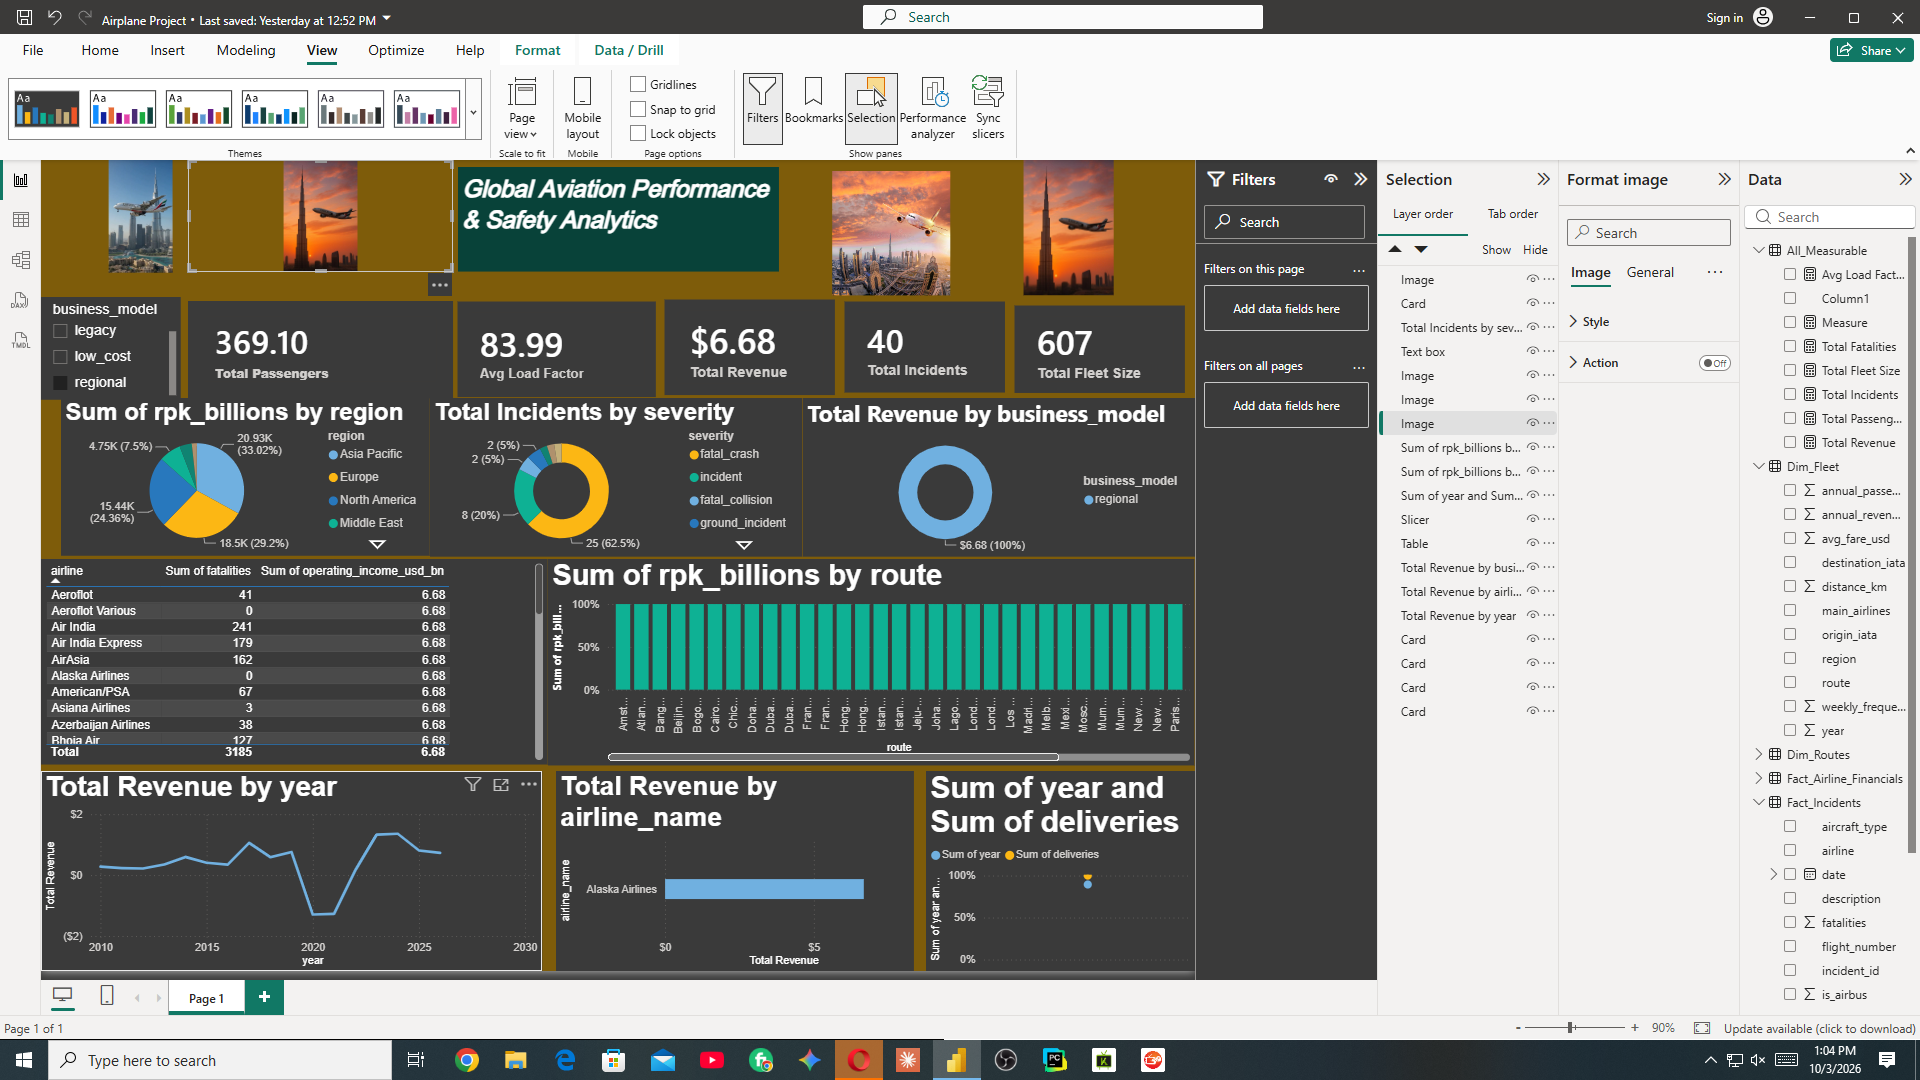

The dashboard page shown, as its layout file describes it:
{"tool":"powerbi","page":{"name":"Page 1","canvas":[1280,900],"ordinal":0},"visuals":[{"type":"cardVisual","fields":{"Data":["All_Measurable.Total Revenue"]},"box":[686.8,150,199.6,116.2],"z":0},{"type":"cardVisual","fields":{"Data":["All_Measurable.Total Incidents"]},"box":[886.4,152.2,188.3,111.6],"z":1000},{"type":"cardVisual","fields":{"Data":["All_Measurable.Total Fleet Size"]},"box":[1074.7,156.8,199.6,107.1],"z":2000},{"type":"cardVisual","fields":{"Data":["All_Measurable.Avg Load Factor"]},"box":[456.7,152.2,230.1,116.2],"z":3000},{"type":"lineChart","fields":{"Category":["Fact_Airline_Financials.year"],"Y":["All_Measurable.Total Revenue"]},"box":[0,677.8,556,222.2],"z":4000},{"type":"barChart","fields":{"Category":["Fact_Airline_Financials.airline_name"],"Y":["All_Measurable.Total Revenue"]},"box":[571.8,677.8,397,222.2],"z":5000},{"type":"donutChart","fields":{"Category":["Fact_Airline_Financials.business_model"],"Y":["All_Measurable.Total Revenue"]},"box":[845.2,264,434.8,176.4],"z":6000},{"type":"tableEx","fields":{"Values":["Fact_Incidents.airline","Sum(Fact_Incidents.fatalities)","Sum(Fact_Airline_Financials.operating_income_usd_bn)"]},"box":[0,442.6,562.4,228.5],"z":7000},{"type":"slicer","fields":{"Values":["Fact_Airline_Financials.business_model"]},"box":[0,152,155.3,114.2],"z":8000},{"type":"hundredPercentStackedAreaChart","fields":{"Y":["Sum(Fact_Traffic.year)","Sum(Fact_Traffic.deliveries)"]},"box":[981.1,677.8,298.9,222.2],"z":9000},{"type":"pieChart","fields":{"Category":["Dim_Routes.region"],"Y":["Sum(Dim_Routes.rpk_billions)"]},"box":[22.2,264,409.3,175.3],"z":10000},{"type":"hundredPercentStackedColumnChart","fields":{"Category":["Dim_Fleet.route"],"Y":["Sum(Dim_Routes.rpk_billions)"]},"box":[562.7,442.1,717.3,228.9],"z":11000},{"type":"image","box":[163.1,0,293.9,124.2],"z":12000},{"type":"image","box":[0,0,221,125.2],"z":13000},{"type":"image","box":[818.7,12.4,249.2,137.6],"z":14000},{"type":"textbox","box":[462.5,7.8,356,116.5],"z":15000},{"type":"donutChart","fields":{"Category":["Fact_Incidents.severity"],"Y":["All_Measurable.Total Incidents"]},"box":[433.7,264,413.7,175.3],"z":16000},{"type":"cardVisual","fields":{"Data":["All_Measurable.Total Passengers"]},"box":[163.1,156.4,293.9,107.6],"z":17000},{"type":"image","box":[1064.6,0,150,150],"z":18000}]}

Visuals, with their boxes on the page's 1280x900 design canvas (x1, y1, x2, y2). These are canvas units, not pixel positions in the 1920x1080 screenshot, which may show the page scaled, cropped or inside an application window:
cardVisual - All_Measurable.Total Revenue: {"x1": 687, "y1": 150, "x2": 886, "y2": 266}
cardVisual - All_Measurable.Total Incidents: {"x1": 886, "y1": 152, "x2": 1075, "y2": 264}
cardVisual - All_Measurable.Total Fleet Size: {"x1": 1075, "y1": 157, "x2": 1274, "y2": 264}
cardVisual - All_Measurable.Avg Load Factor: {"x1": 457, "y1": 152, "x2": 687, "y2": 268}
lineChart - Fact_Airline_Financials.year x All_Measurable.Total Revenue: {"x1": 0, "y1": 678, "x2": 556, "y2": 900}
barChart - Fact_Airline_Financials.airline_name x All_Measurable.Total Revenue: {"x1": 572, "y1": 678, "x2": 969, "y2": 900}
donutChart - Fact_Airline_Financials.business_model x All_Measurable.Total Revenue: {"x1": 845, "y1": 264, "x2": 1280, "y2": 440}
tableEx - Fact_Incidents.airline x Sum(Fact_Incidents.fatalities): {"x1": 0, "y1": 443, "x2": 562, "y2": 671}
slicer - Fact_Airline_Financials.business_model: {"x1": 0, "y1": 152, "x2": 155, "y2": 266}
hundredPercentStackedAreaChart - Sum(Fact_Traffic.year) x Sum(Fact_Traffic.deliveries): {"x1": 981, "y1": 678, "x2": 1280, "y2": 900}
pieChart - Dim_Routes.region x Sum(Dim_Routes.rpk_billions): {"x1": 22, "y1": 264, "x2": 432, "y2": 439}
hundredPercentStackedColumnChart - Dim_Fleet.route x Sum(Dim_Routes.rpk_billions): {"x1": 563, "y1": 442, "x2": 1280, "y2": 671}
image: {"x1": 163, "y1": 0, "x2": 457, "y2": 124}
image: {"x1": 0, "y1": 0, "x2": 221, "y2": 125}
image: {"x1": 819, "y1": 12, "x2": 1068, "y2": 150}
textbox: {"x1": 462, "y1": 8, "x2": 818, "y2": 124}
donutChart - Fact_Incidents.severity x All_Measurable.Total Incidents: {"x1": 434, "y1": 264, "x2": 847, "y2": 439}
cardVisual - All_Measurable.Total Passengers: {"x1": 163, "y1": 156, "x2": 457, "y2": 264}
image: {"x1": 1065, "y1": 0, "x2": 1215, "y2": 150}
